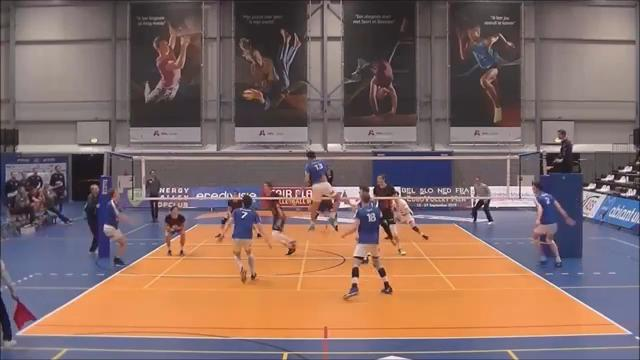Player: (342, 192, 392, 298), (216, 195, 271, 282), (532, 182, 574, 266), (305, 151, 339, 230), (103, 189, 126, 265), (392, 194, 428, 239), (377, 199, 405, 255), (268, 199, 295, 254), (165, 206, 185, 255), (221, 191, 241, 227), (221, 192, 241, 227), (318, 199, 339, 218)
ball: (242, 89, 253, 100)
